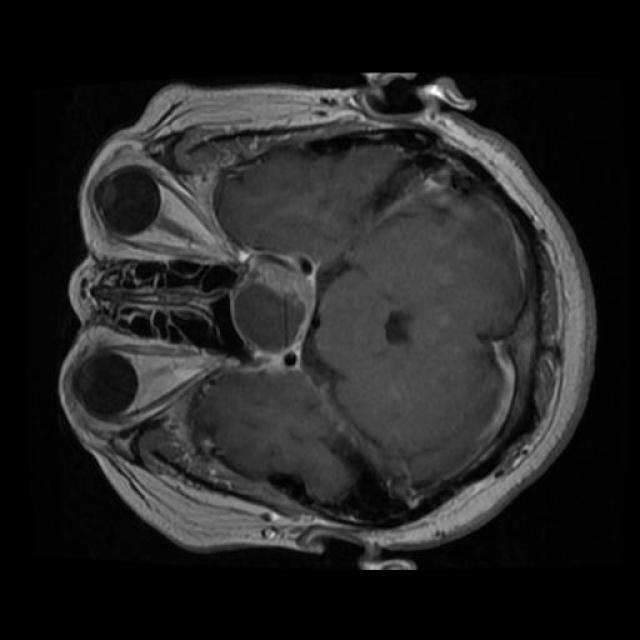Pituitary: (230, 248, 316, 369)
